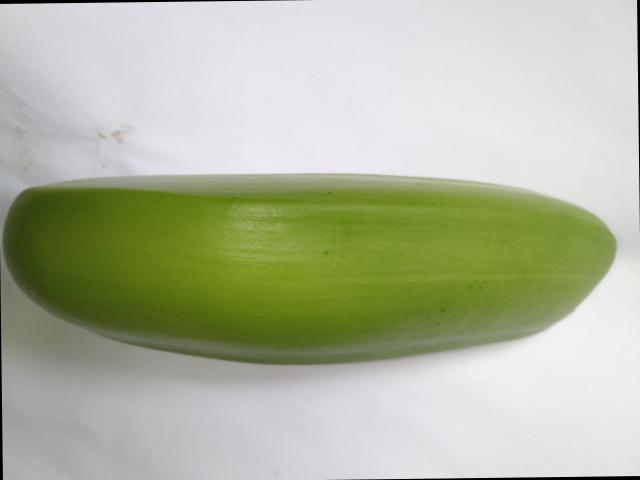freshunripe: (0, 152, 639, 381)
